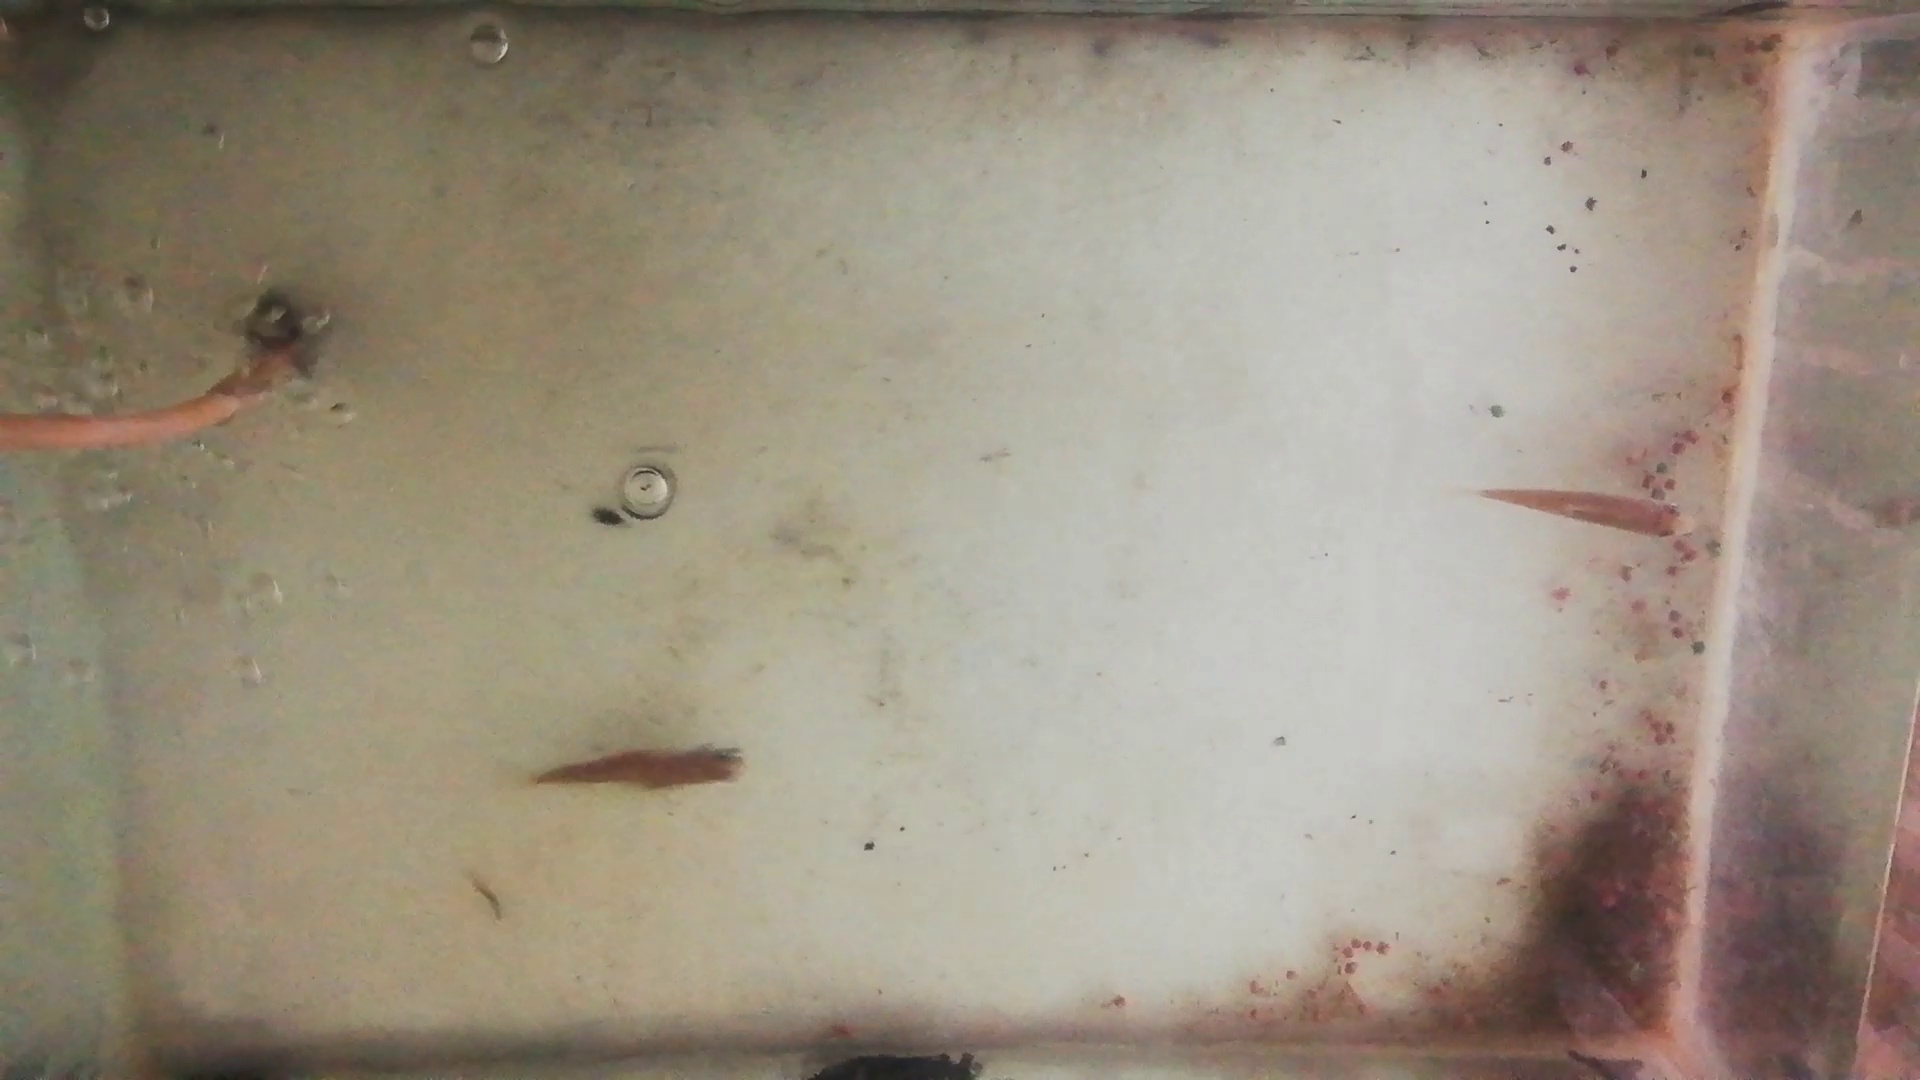fish: (1484, 483, 1695, 541), (530, 745, 752, 793)
